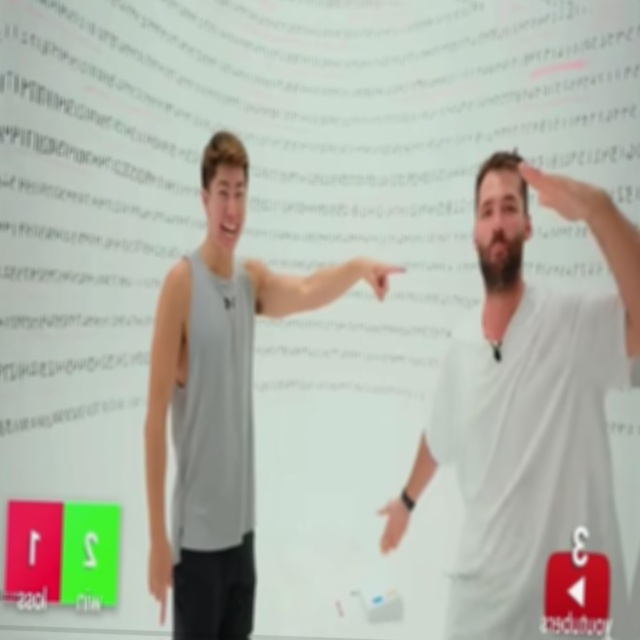Paper: (515, 159, 605, 224)
